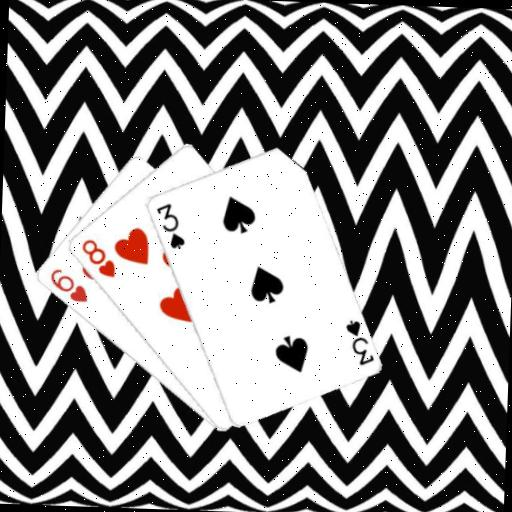3S: (340, 316, 377, 367), (151, 199, 187, 250)
6H: (46, 265, 90, 305)
8H: (77, 235, 117, 279)
